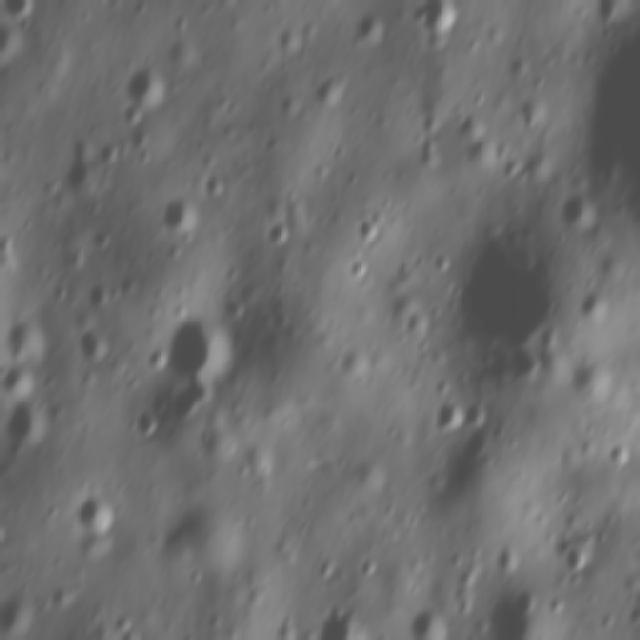crater: (450, 222, 581, 380), (563, 0, 640, 214), (155, 304, 242, 374), (163, 374, 225, 426), (0, 394, 55, 451), (480, 591, 542, 640), (0, 317, 54, 363), (449, 424, 497, 474), (70, 490, 121, 535), (308, 607, 377, 640), (309, 64, 354, 114), (413, 0, 465, 43), (556, 190, 602, 236), (0, 358, 45, 405), (154, 192, 201, 236), (0, 591, 42, 640), (399, 604, 454, 640), (122, 66, 163, 114), (356, 6, 393, 56), (160, 29, 208, 66), (429, 396, 466, 438), (347, 210, 388, 247), (402, 303, 440, 342), (334, 345, 374, 381), (575, 290, 616, 325), (510, 93, 547, 130), (77, 326, 111, 365), (0, 16, 25, 67), (47, 578, 82, 614), (199, 166, 235, 200), (458, 392, 492, 426), (497, 49, 531, 83), (560, 542, 592, 578), (261, 215, 293, 251), (126, 406, 157, 442), (82, 278, 113, 311), (606, 438, 636, 472), (342, 252, 372, 285), (0, 0, 37, 25), (426, 250, 459, 278), (272, 612, 300, 640), (110, 606, 136, 632), (118, 624, 147, 640)
